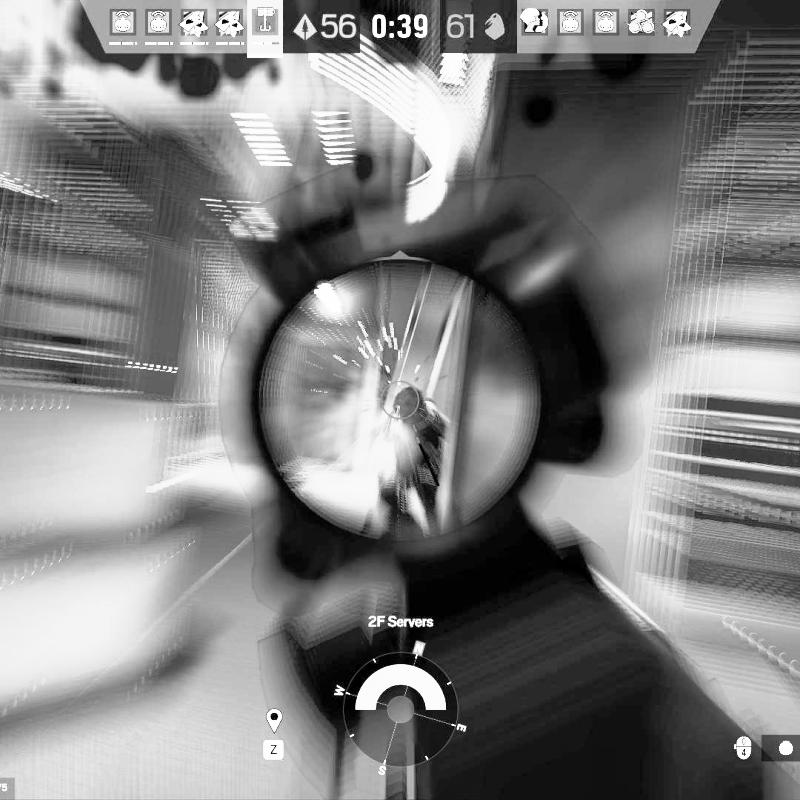Character: (376, 384, 449, 540)
Head: (392, 386, 424, 422)
